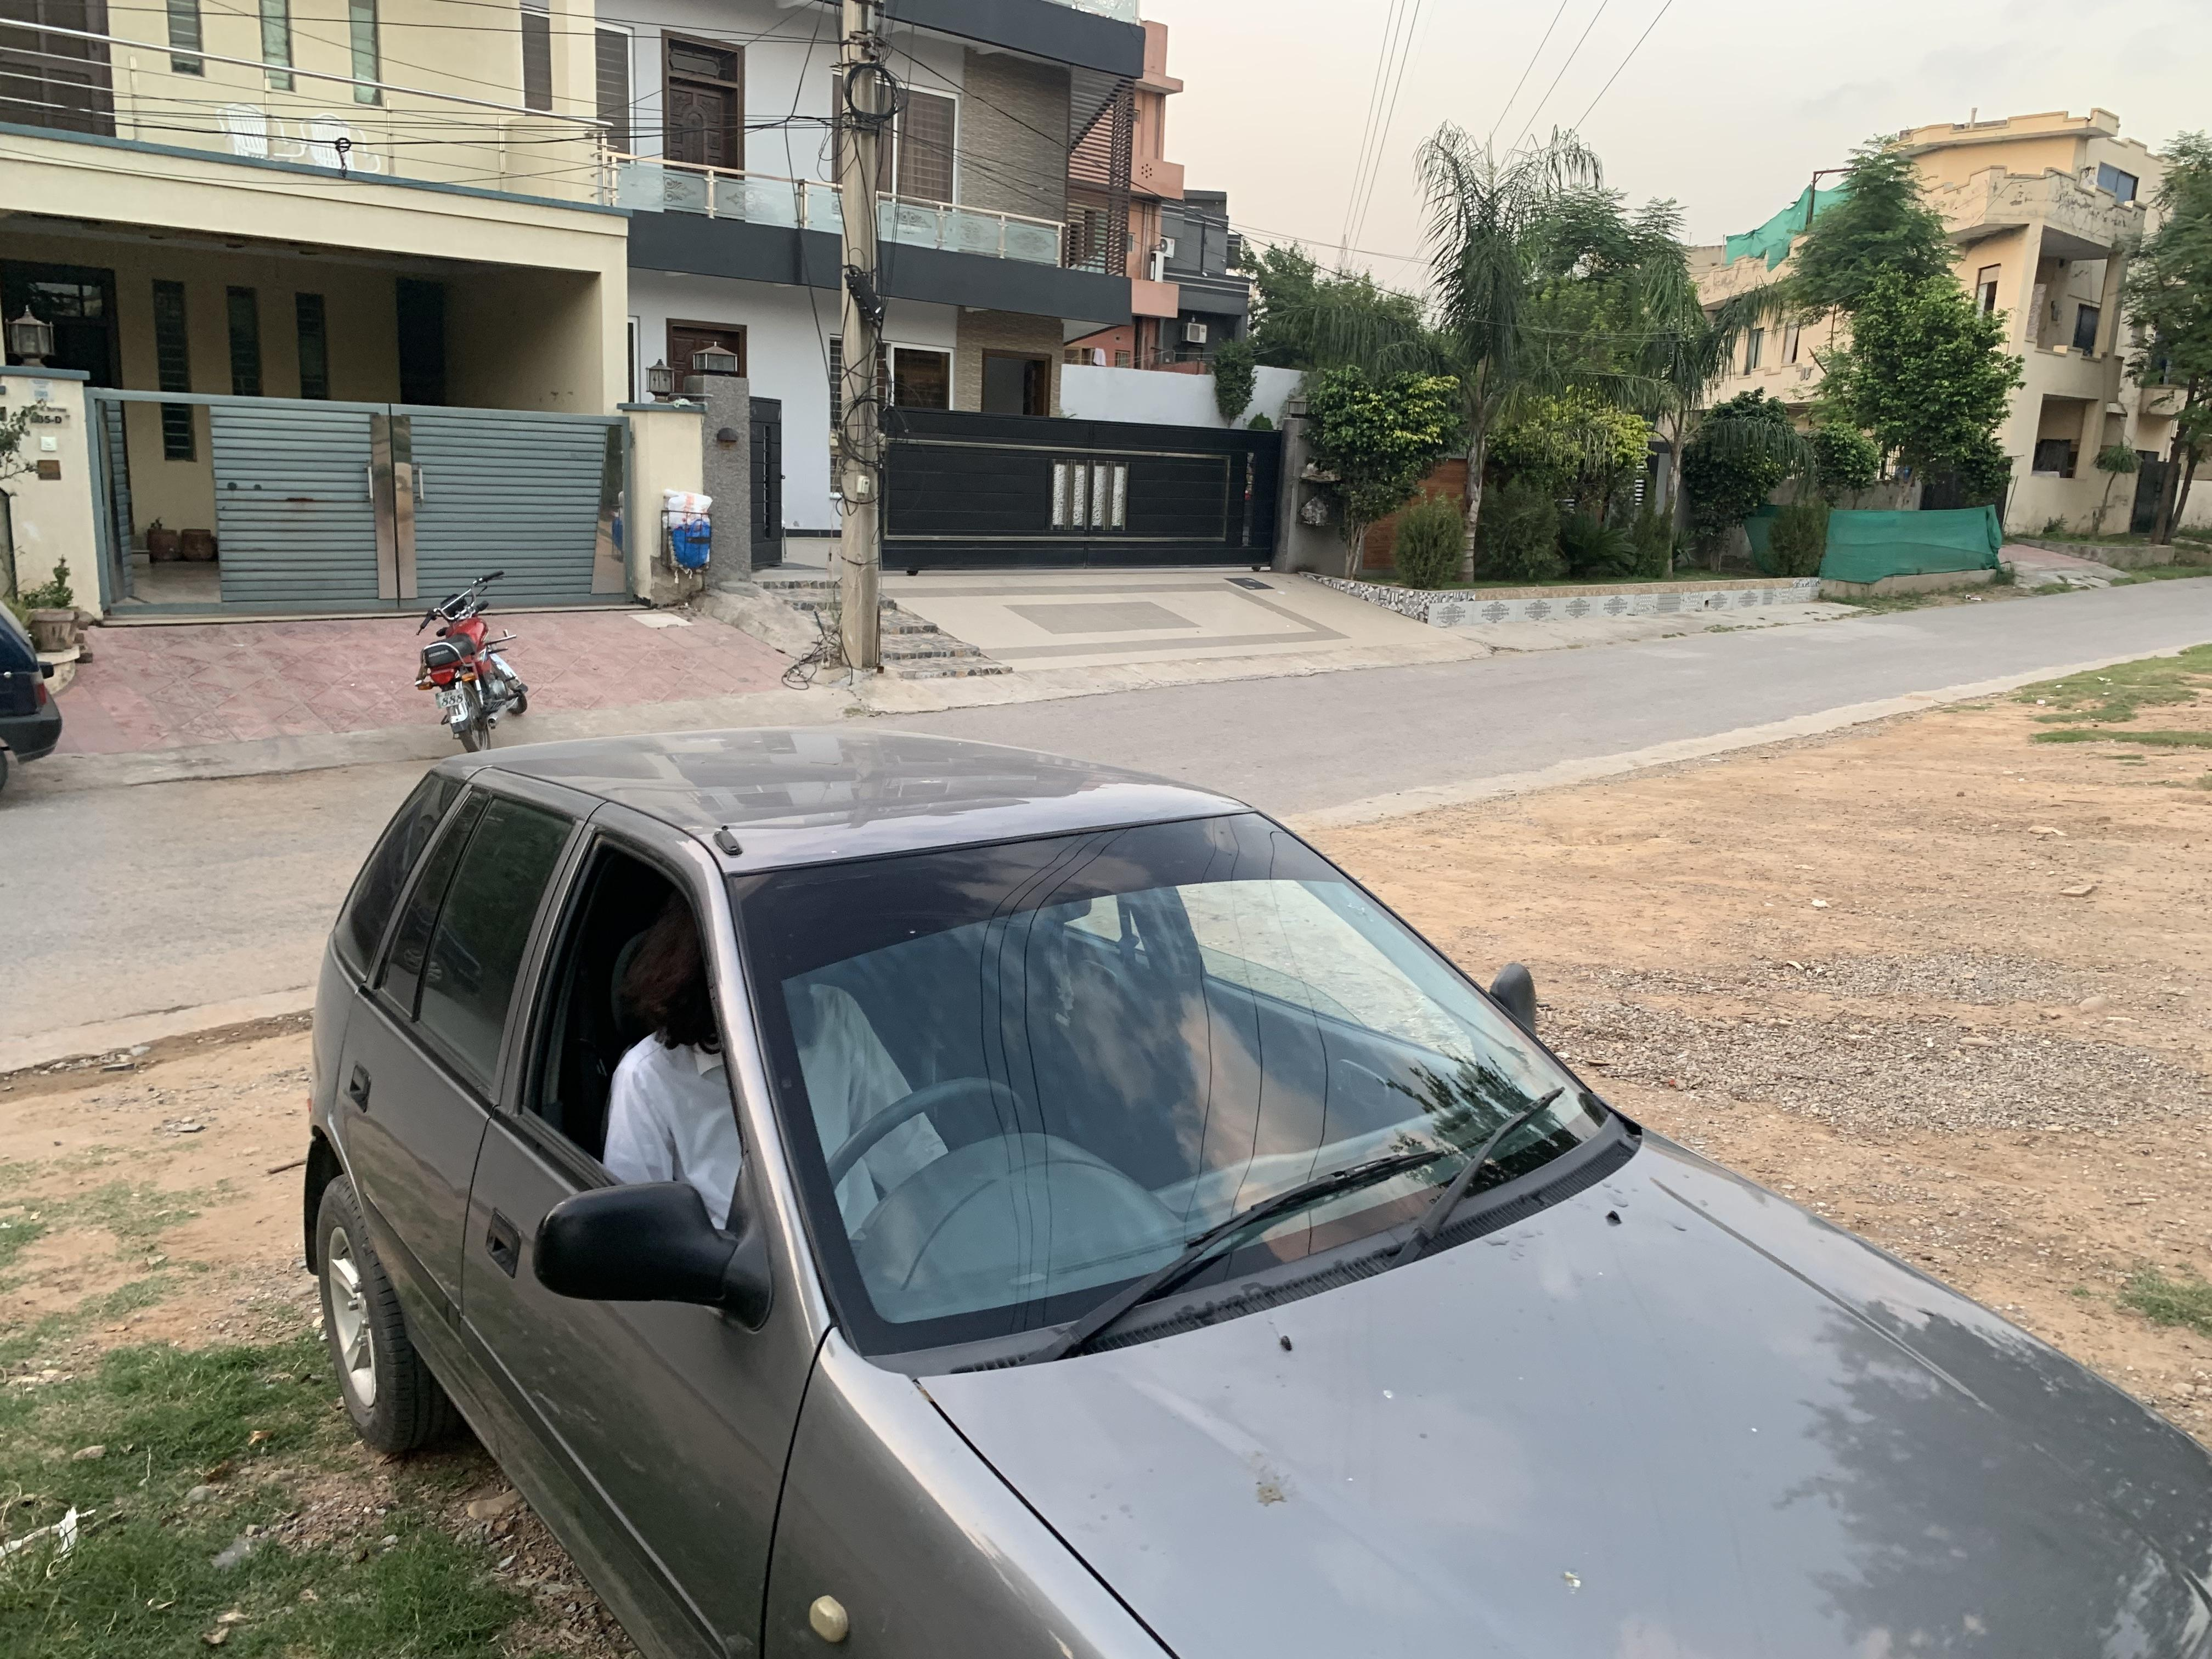windshield: (714, 784, 1691, 1438)
